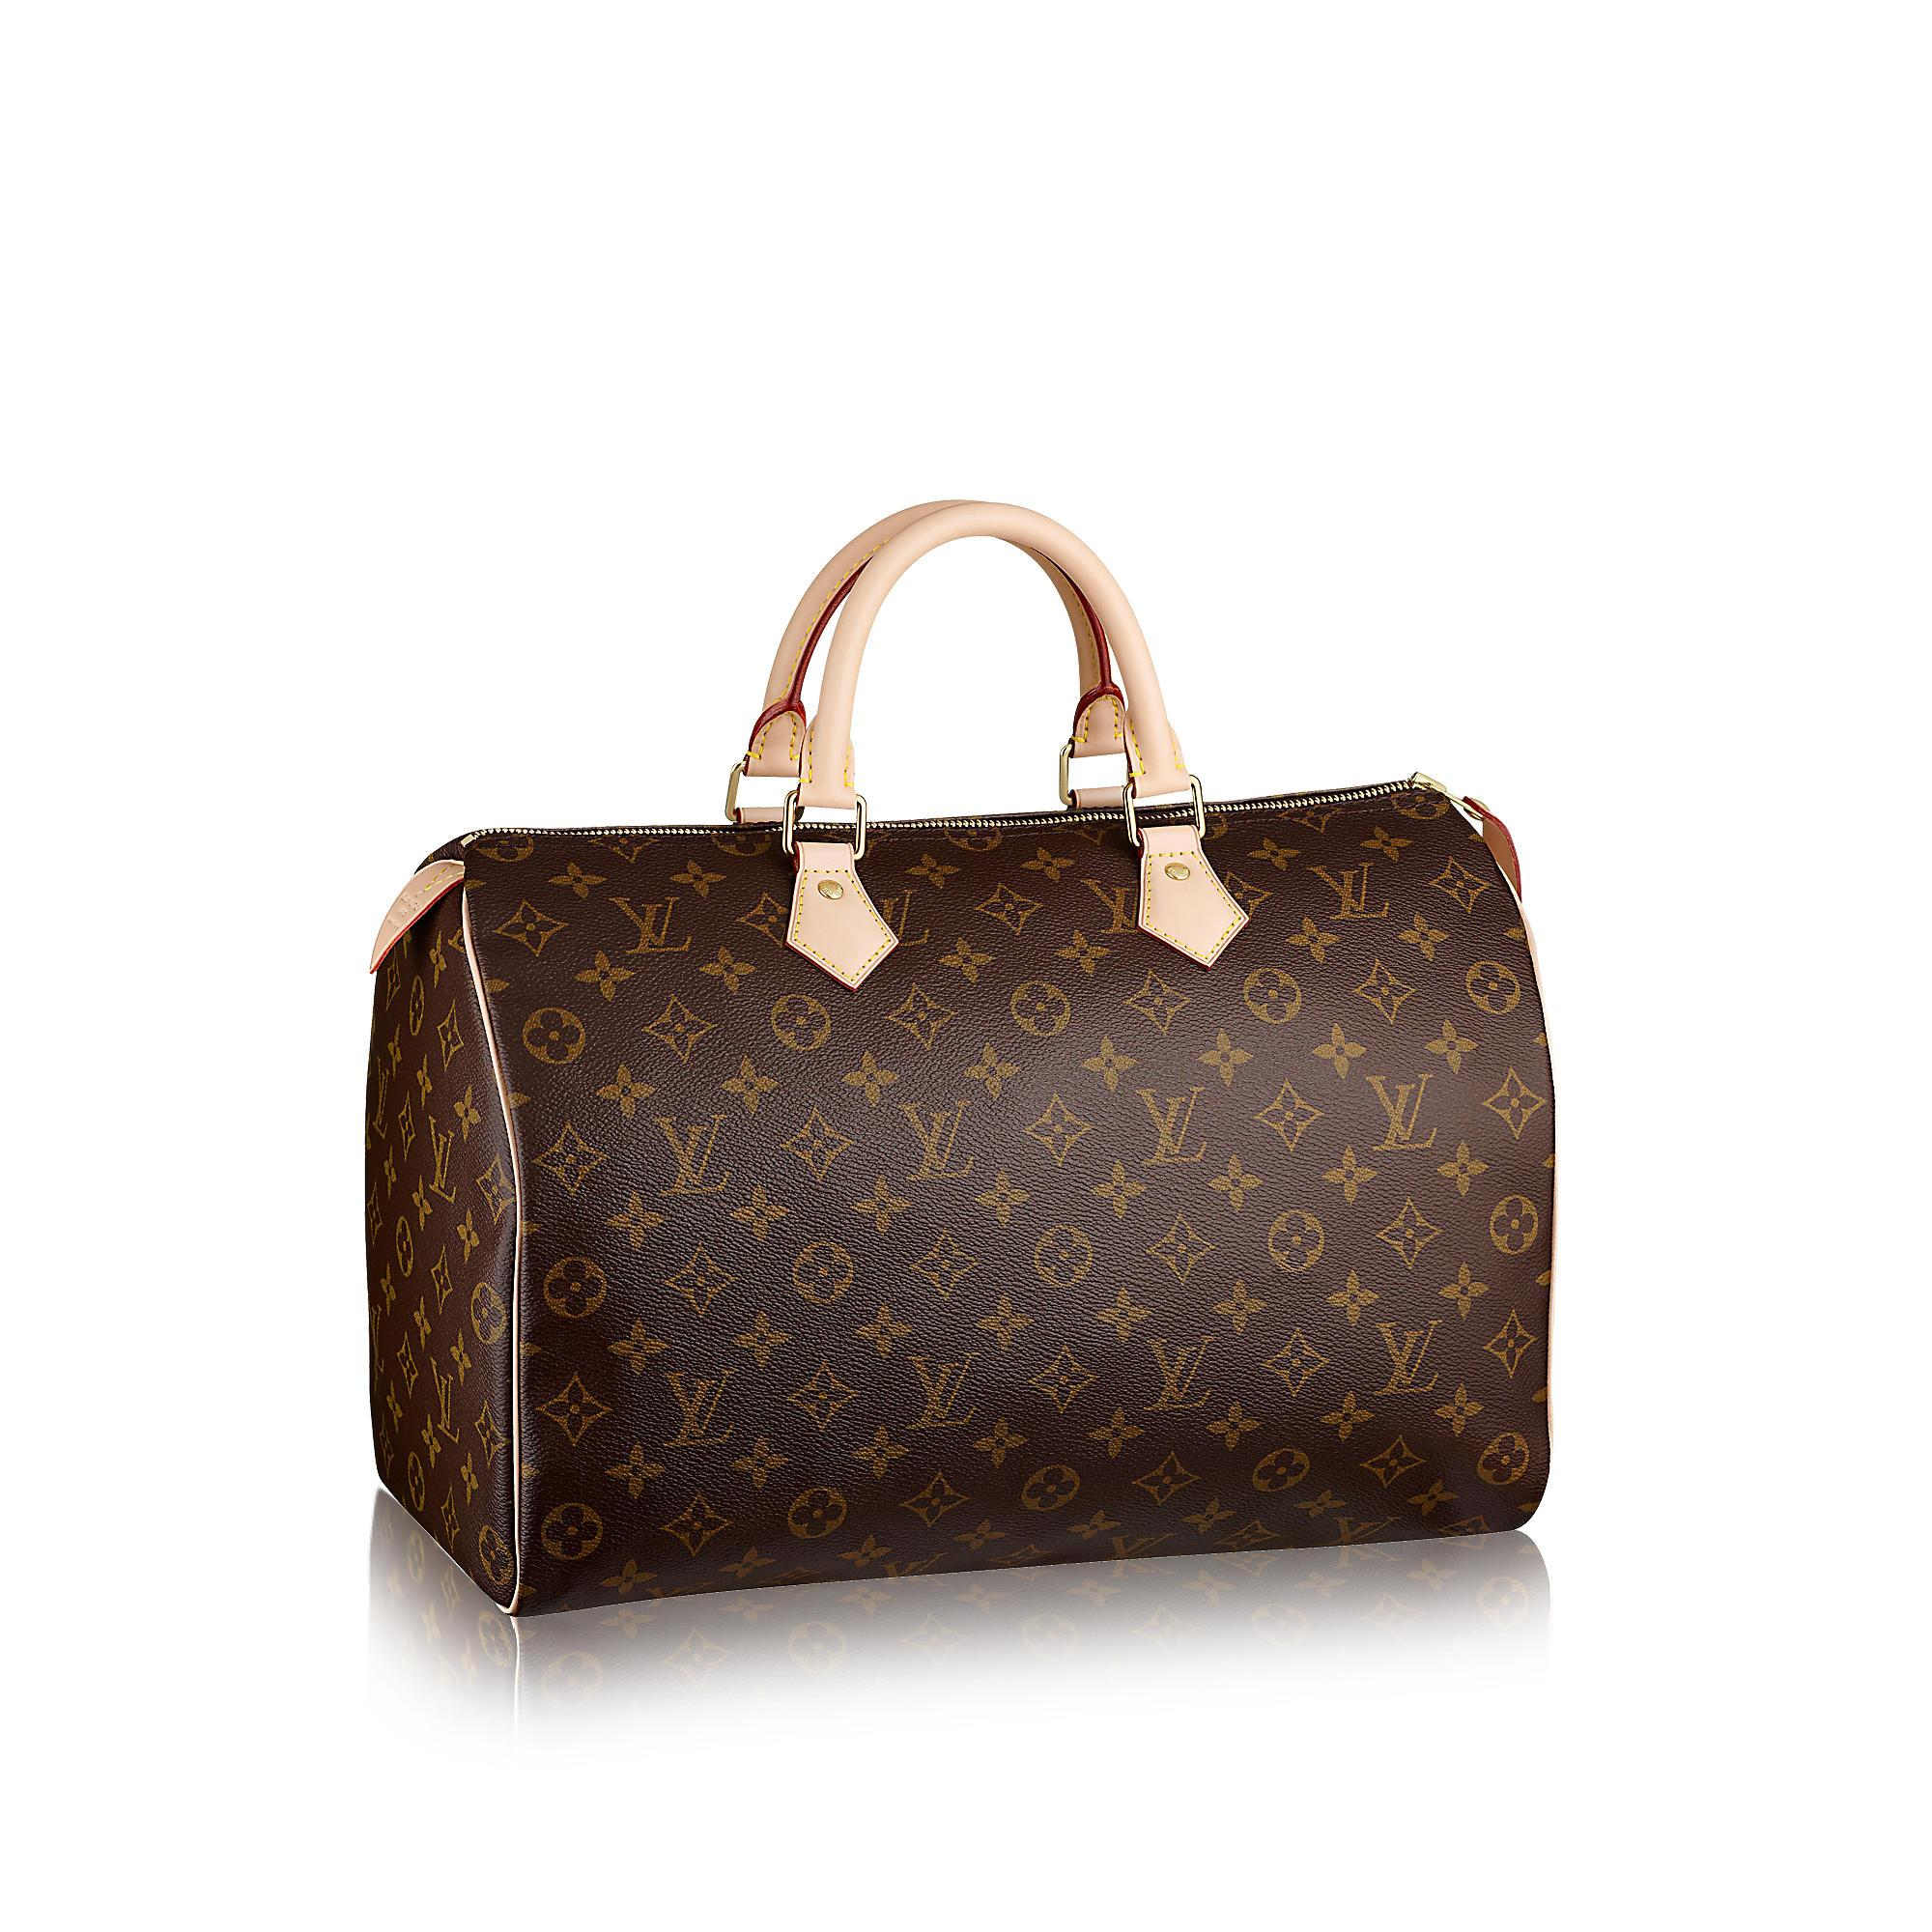LOUIS-VUITTON: (646, 1111, 731, 1200), (656, 1364, 736, 1454), (1125, 1085, 1207, 1168), (906, 1348, 984, 1435), (890, 1099, 971, 1180), (1361, 1072, 1440, 1154), (1136, 1330, 1214, 1412), (1371, 1316, 1444, 1398), (1300, 860, 1391, 922), (603, 893, 690, 957), (1076, 874, 1145, 934), (421, 1353, 464, 1444), (423, 1109, 456, 1203), (1327, 1509, 1401, 1546), (366, 1054, 393, 1139)
